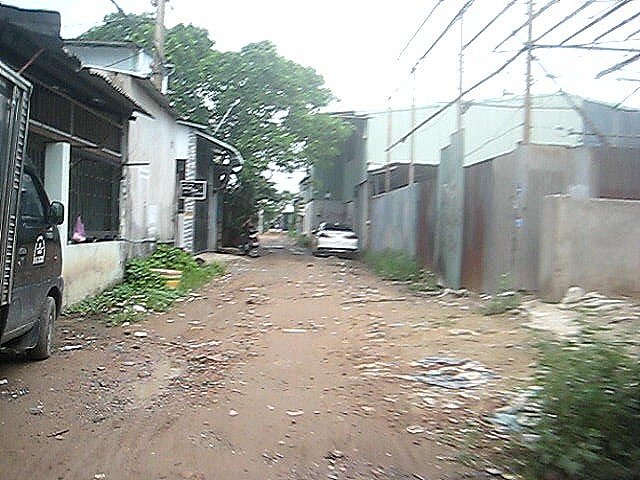hole: (77, 338, 217, 423)
